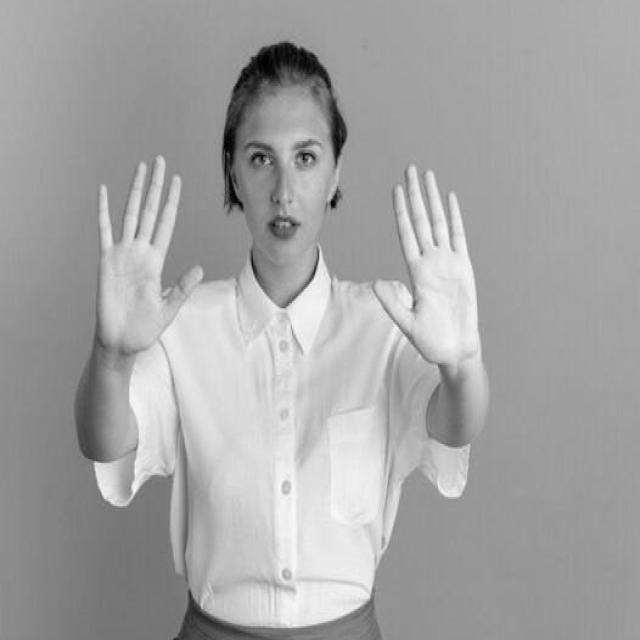stop: (368, 156, 487, 378), (87, 145, 208, 359)
